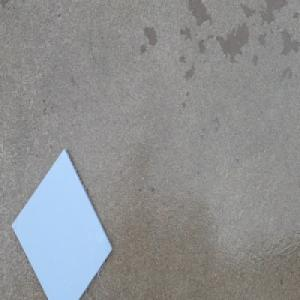PaintChip: (11, 146, 112, 300)
